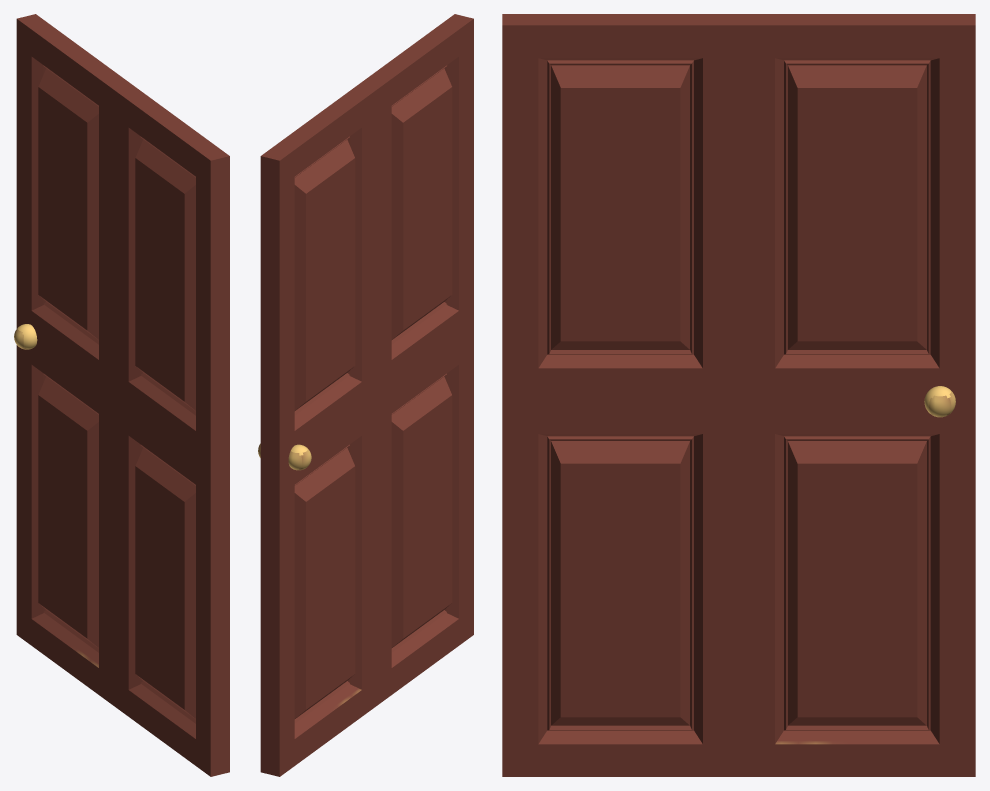
Rendered from door.fbx.
3 views of the same model, side by side, from view 1: azimuth 30°, elevation 25°; view 2: azimuth 150°, elevation 25°; view 3: azimuth 270°, elevation 25° (orthographic). The views are drawn at different scales.
Parts seen in each view (by area): view 1: Sphere.002; view 2: Sphere.002; view 3: Sphere.002.
Part boxes in pixels (left/top/right/bottom): Sphere.002: left=14, top=14, right=229, bottom=776; Sphere.002: left=258, top=14, right=473, bottom=776; Sphere.002: left=502, top=14, right=975, bottom=776.
Bounding box in the file's own units: 36.34 × 426 × 243.
1 material, 1 textured.
